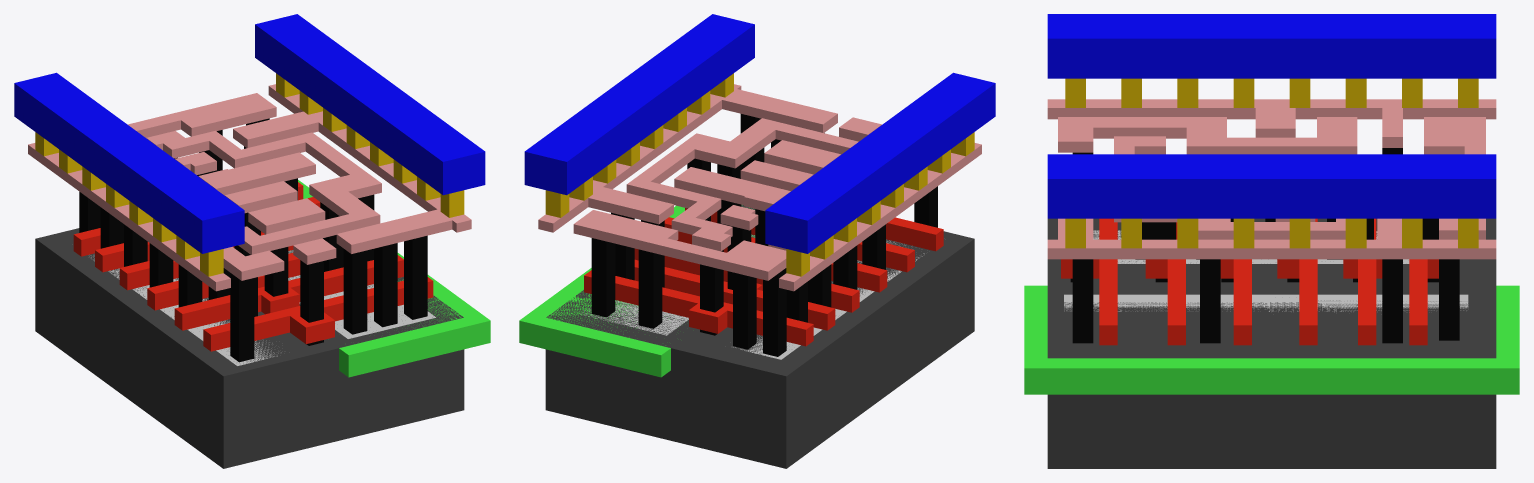
Rendered from sky130_fd_sc_hd__o32a_1.obj.
3 views of the same model, side by side, from view 1: azimuth 30°, elevation 25°; view 2: azimuth 150°, elevation 25°; view 3: azimuth 270°, elevation 25° (orthographic). The views are drawn at different scales.
Parts seen in each view (by area): view 1: subs, metal1, li, licon, poly, nwell, mcon, diff, tap; view 2: subs, metal1, li, licon, poly, nwell, mcon, tap, diff; view 3: subs, metal1, li, nwell, poly, mcon, licon, tap, diff.
Boxes of the visible parts, bbox=[...] form: subs: bbox=[35, 228, 464, 468]; metal1: bbox=[14, 14, 485, 253]; li: bbox=[28, 84, 471, 291]; licon: bbox=[79, 118, 427, 362]; poly: bbox=[73, 182, 433, 351]; nwell: bbox=[298, 180, 490, 377]; mcon: bbox=[35, 73, 464, 276]; diff: bbox=[89, 255, 281, 365]; tap: bbox=[288, 250, 435, 338]; subs: bbox=[545, 204, 974, 468]; metal1: bbox=[524, 14, 995, 253]; li: bbox=[538, 84, 981, 291]; licon: bbox=[591, 114, 937, 356]; poly: bbox=[584, 208, 943, 346]; nwell: bbox=[519, 205, 754, 377]; mcon: bbox=[545, 73, 974, 276]; tap: bbox=[580, 207, 754, 335]; diff: bbox=[733, 240, 924, 359]; subs: bbox=[1047, 218, 1496, 468]; metal1: bbox=[1047, 14, 1496, 218]; li: bbox=[1047, 99, 1496, 259]; nwell: bbox=[1024, 285, 1519, 394]; poly: bbox=[1061, 218, 1438, 345]; mcon: bbox=[1065, 78, 1478, 248]; licon: bbox=[1070, 148, 1459, 343]; tap: bbox=[1064, 294, 1468, 312]; diff: bbox=[1093, 230, 1409, 263].
Bounding box in the file's own units: 3.2 × 2.74 × 4.06.
